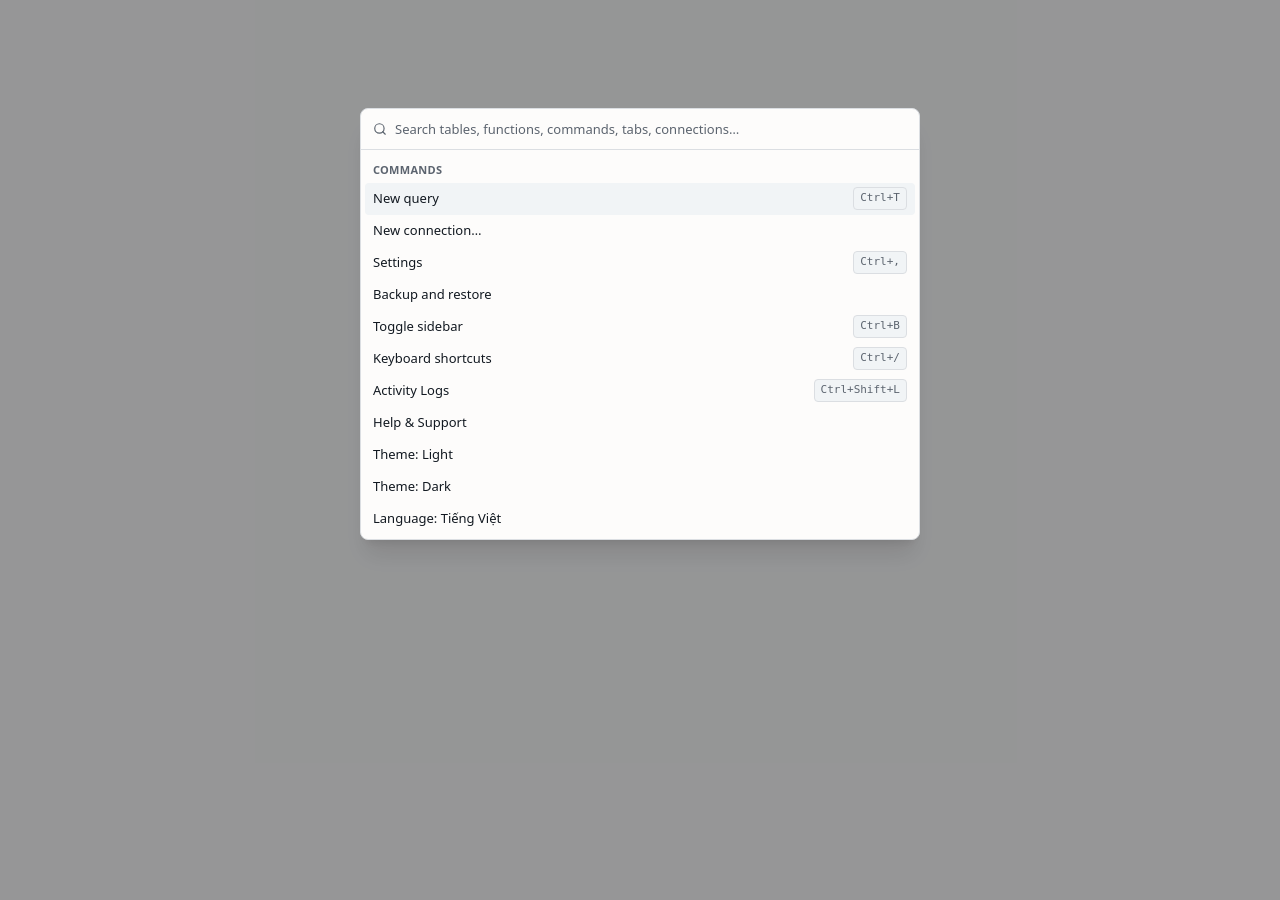
it: Spotlight: objects of the open connections › finds a table by name on the server and opens its data
Later steps or results of the test are not shown.
In the dropdown named "Command palette": (651, 129) [395,109,907,149], type "orders"
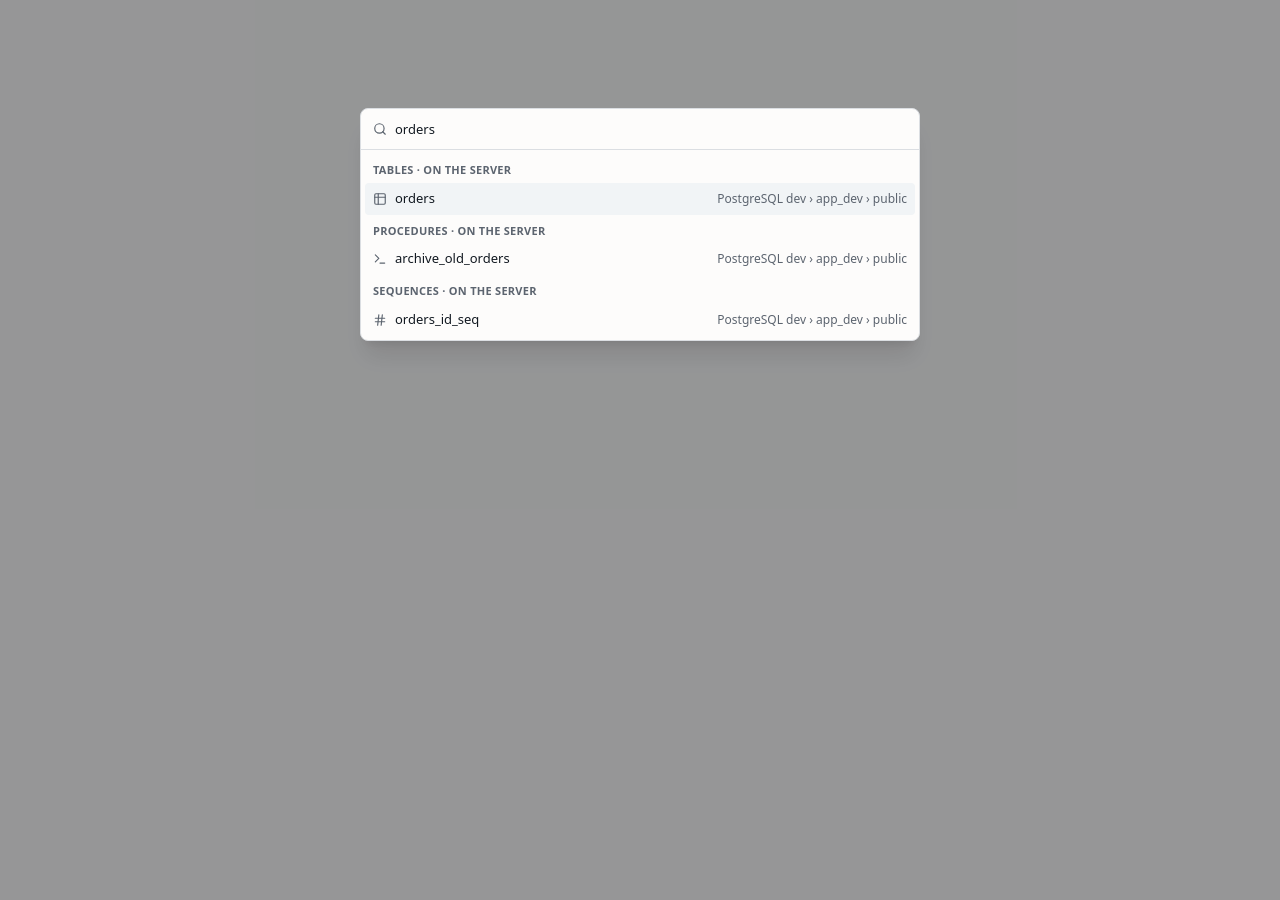
Check: the text "Tables · on the server" is shown, box [373,162,511,177]
